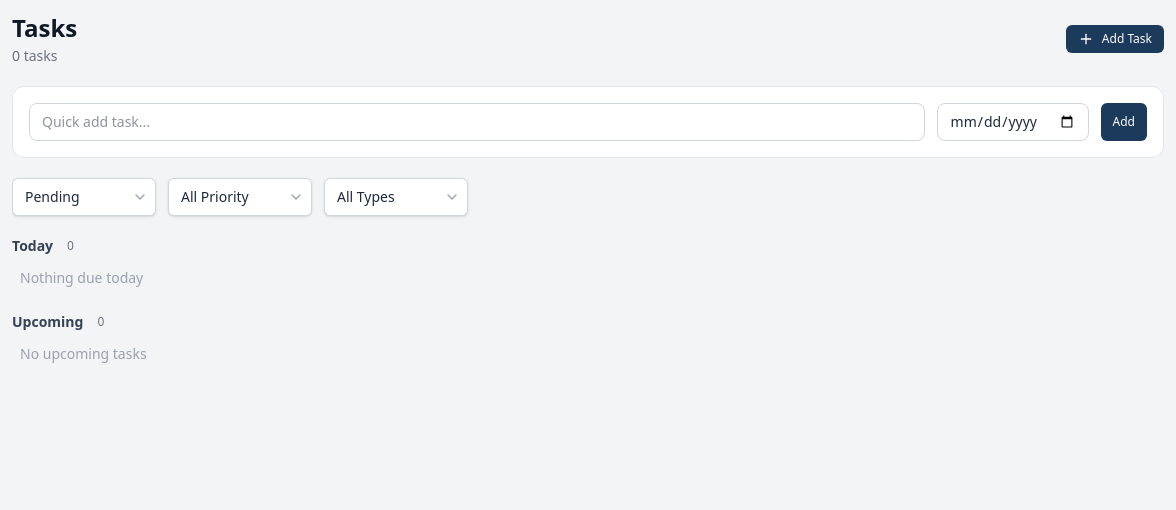
Scenario: keeps completed tasks visible with the completed filter
Select "Completed" in the dropdown named "Filter task status". click: (84, 197)
box: 12,178 -> 156,216
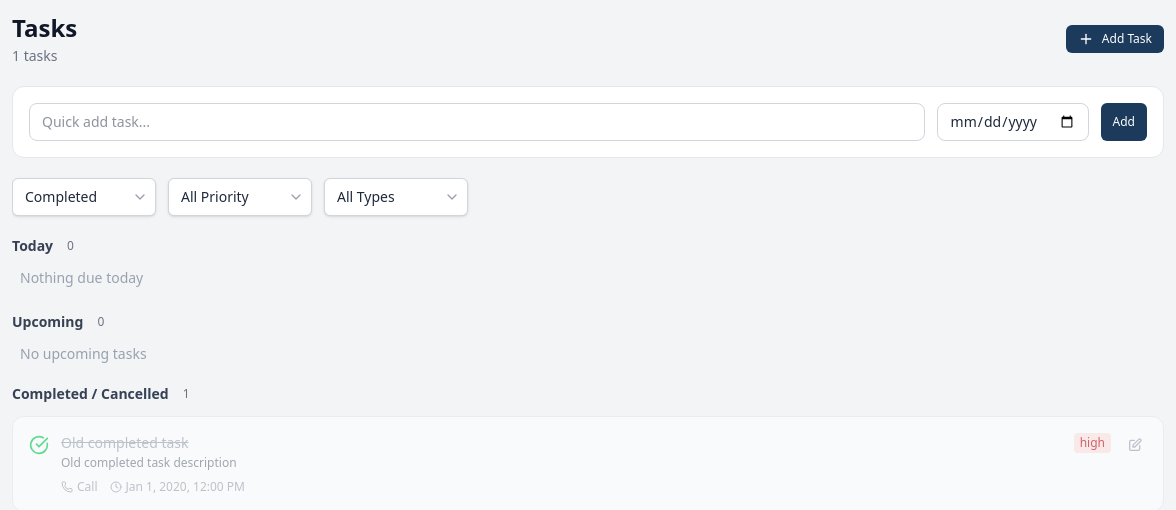
Expected: the text "Old completed task" is shown, 61,433 -> 188,453
Expected: the heading "Completed / Cancelled" is shown, 12,384 -> 169,404
